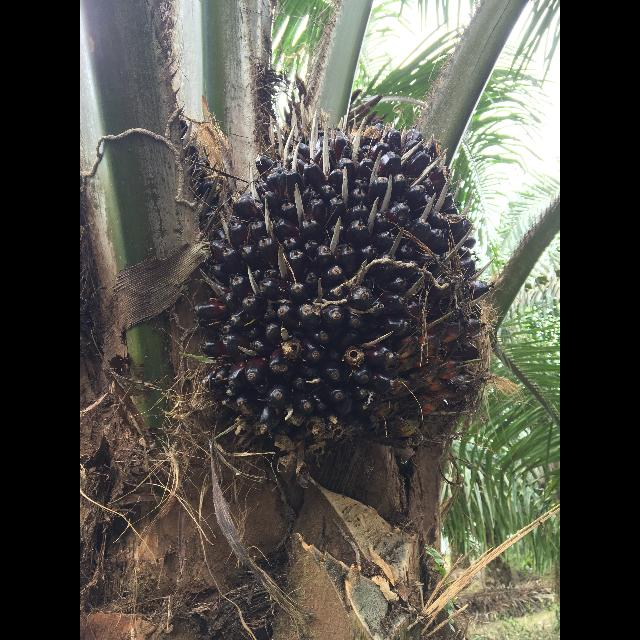Unripe: (205, 127, 489, 449)
